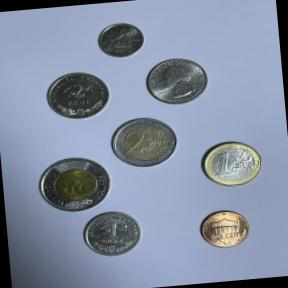1 Euro: (196, 136, 271, 191)
2 Euro: (107, 114, 182, 172)
Canda-10cent-: (93, 19, 151, 61)
Canda-2Dollar-: (33, 151, 115, 217)
Croatia-2Kune-: (42, 66, 114, 124)
US-1cent-: (194, 207, 256, 254)
US-25cent-: (140, 54, 214, 109)
